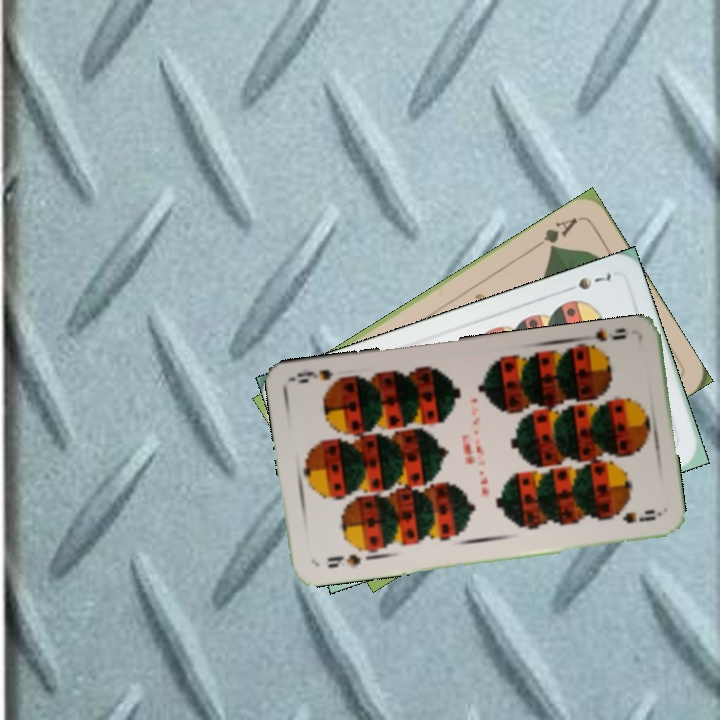GA: (529, 213, 581, 253)
S7: (559, 269, 614, 295)
S9: (578, 324, 629, 356), (323, 550, 363, 571)
